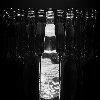beer: (37, 10, 62, 100)
